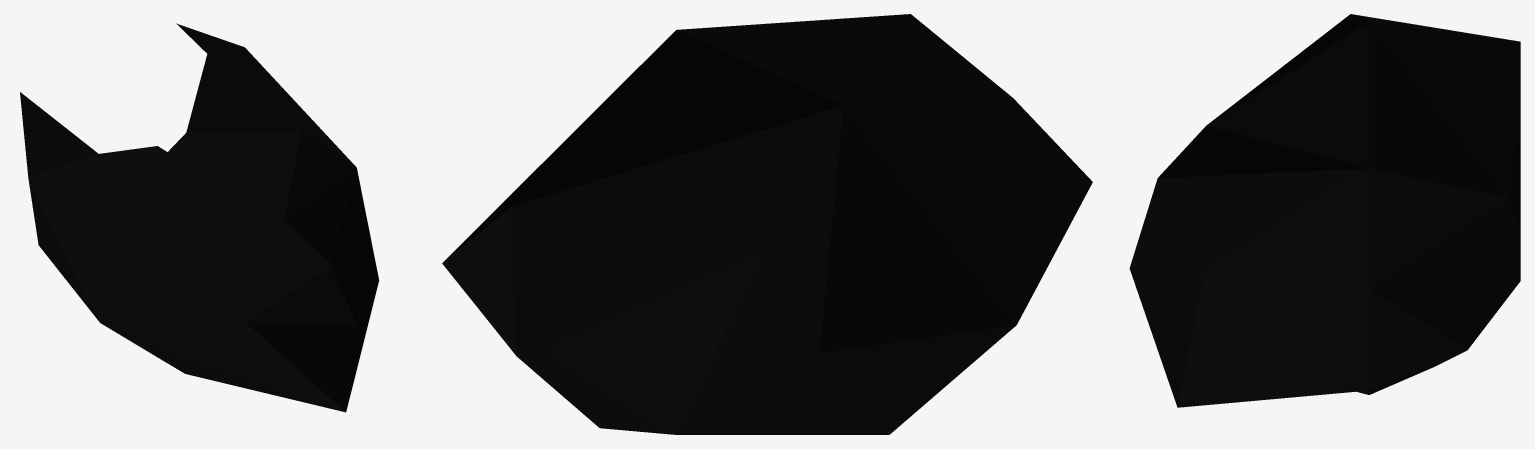
3 renders of one model, left to right at view 1: azimuth 30°, elevation 25°; view 2: azimuth 150°, elevation 25°; view 3: azimuth 270°, elevation 25°, orthographic. The views are drawn at different scales.
Size of the model in its own units: 0.6626 by 0.6824 by 0.7452.
1 material, 1 textured.
